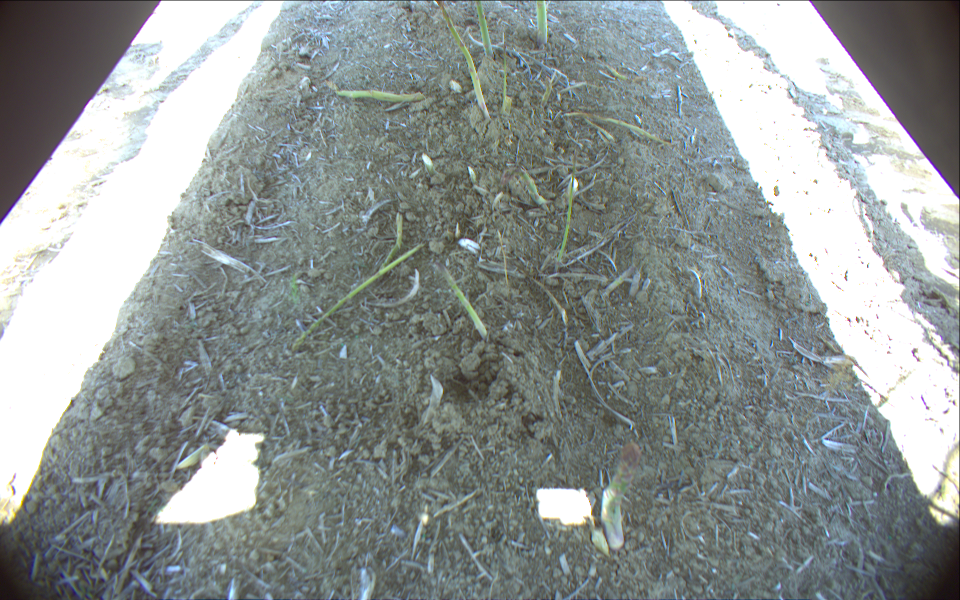aspa: (432, 1, 494, 125), (431, 258, 491, 344), (601, 442, 643, 550), (472, 1, 498, 61), (533, 1, 550, 55)
